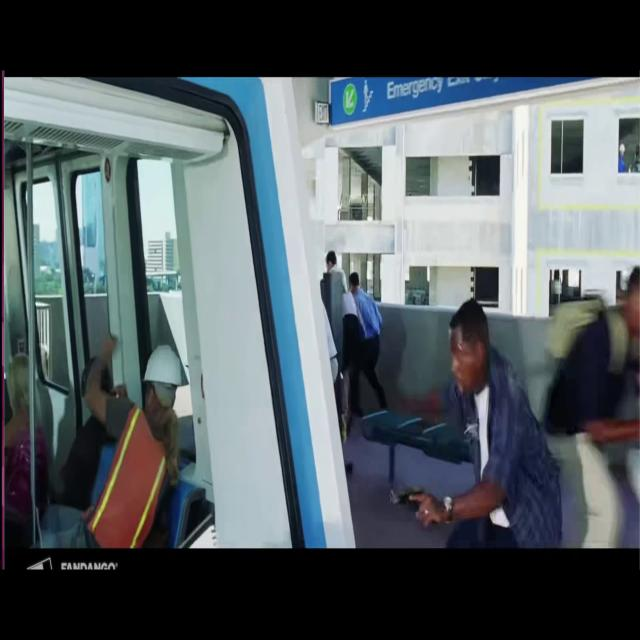weapons: (382, 467, 446, 546)
